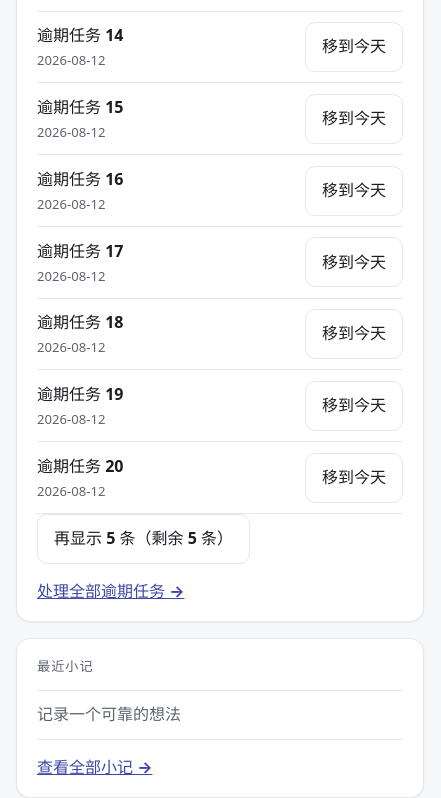
Test: overview page › keeps a large overdue list available without rendering it all at once
The width and height of the screenshot is (441, 798).
(page scrolled)
Expected: the text "逾期任务 20" is shown, [37,453,124,480]
Expected: the text "逾期任务 21" is not shown
What coordinates should you click on to do the following:
click the button "再显示 5 条（剩余 5 条）"
I would click on:
 (144, 539)
Its box is [37,514,250,564].
(page scrolled)
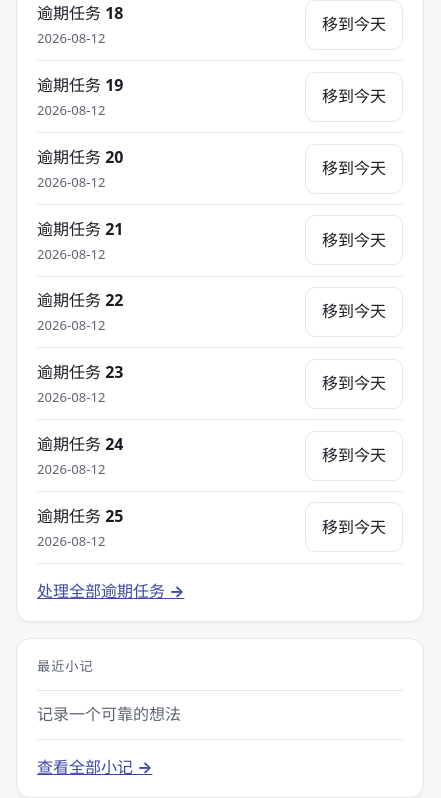
Expected: the text "逾期任务 25" is shown, [37,502,124,530]
